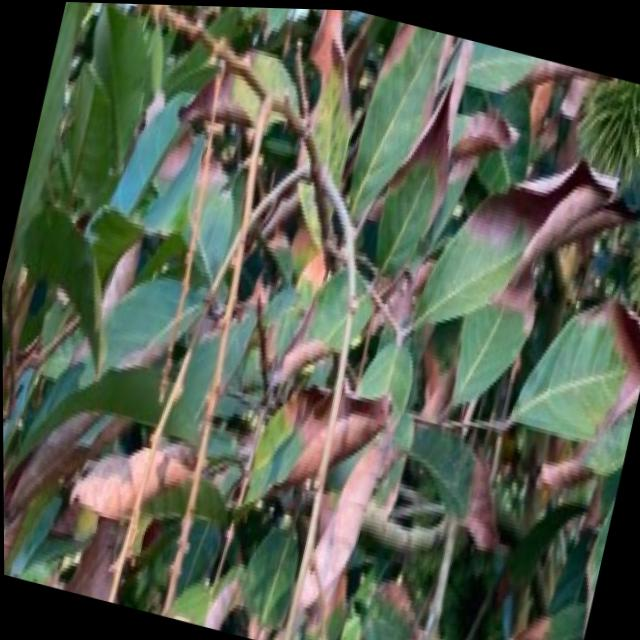Leaf Blight: (4, 250, 270, 610), (240, 276, 449, 618), (387, 28, 640, 307), (269, 6, 406, 136)
